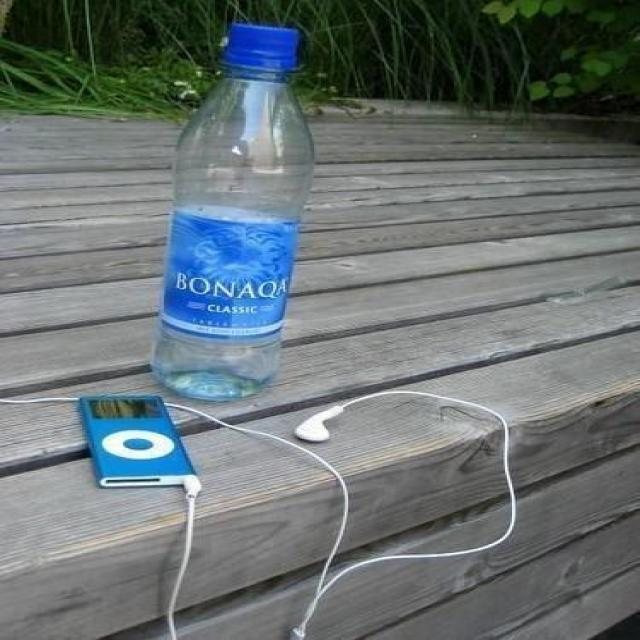bottle-plastic: (147, 20, 319, 402)
